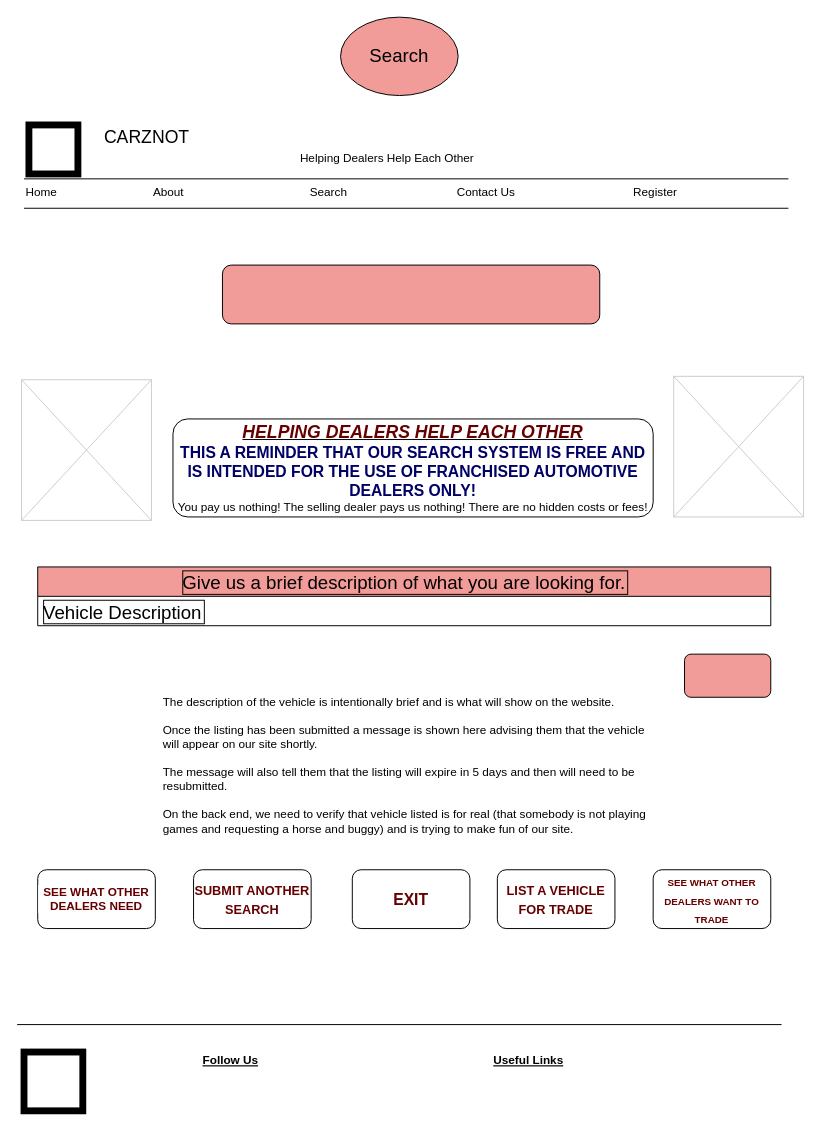
Image size: 821x1131. Some labels were removed from this diagram. The shapes that lost their labels are listed below. From the top down, each one's centre as x and y in pixels, then its label:
At [410,294]: "Vehicle Search".
At [727,675]: "Submit".
